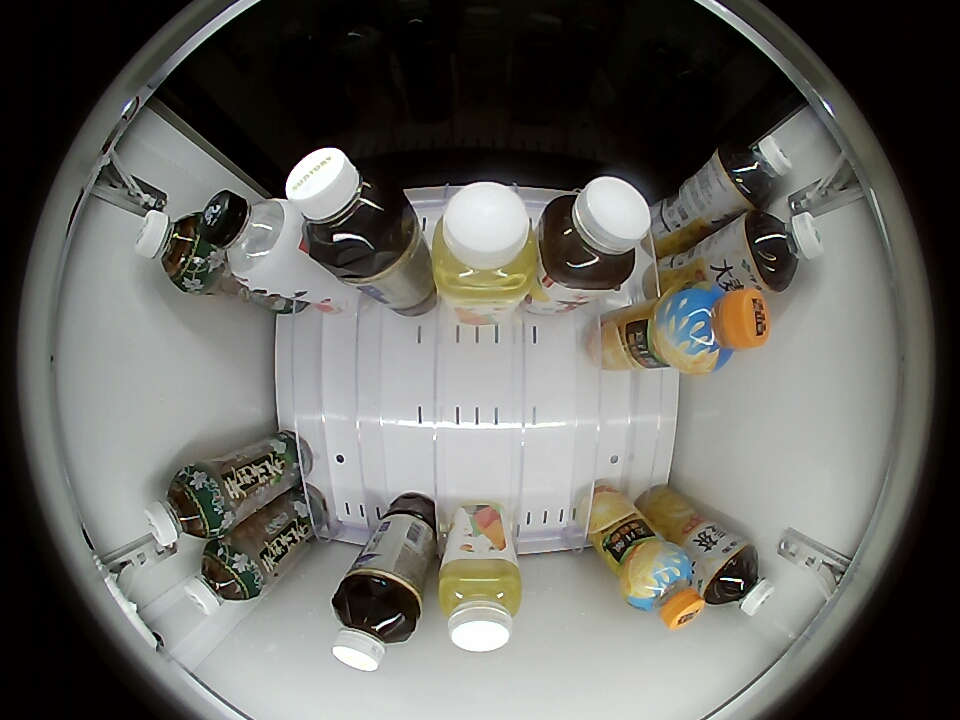chapai: (538, 176, 651, 291)
chapai2: (432, 181, 536, 306), (439, 557, 522, 651)
damaicha: (743, 209, 824, 290), (718, 135, 793, 208), (705, 542, 774, 616)
guolicheng: (658, 283, 770, 374), (622, 543, 705, 630)
moliqingcha: (144, 468, 226, 547), (135, 209, 214, 289), (183, 542, 260, 615)
wulongcha: (286, 147, 399, 265), (331, 584, 419, 673)
yuanqishui: (201, 190, 303, 289)
